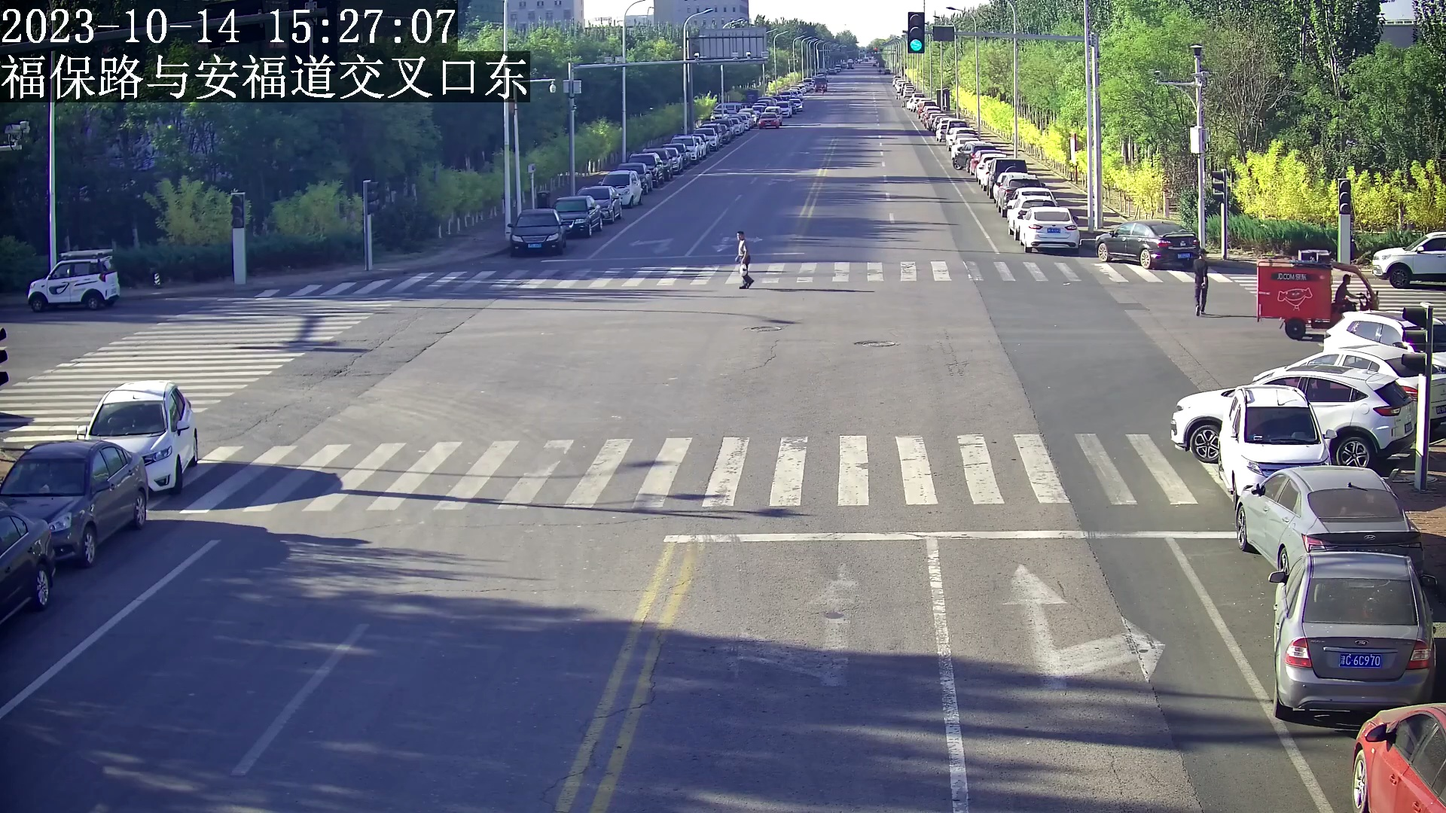person: (1192, 244, 1216, 318), (732, 228, 754, 290), (1335, 273, 1353, 313)
vehicle: (1268, 549, 1432, 723), (1167, 369, 1415, 467), (1236, 463, 1423, 570), (6, 437, 147, 561), (73, 378, 200, 492), (1225, 382, 1336, 500), (1252, 251, 1381, 335), (1351, 701, 1446, 813), (20, 244, 124, 315), (1095, 214, 1201, 272), (1368, 223, 1446, 285), (1018, 204, 1081, 253), (508, 202, 564, 251), (557, 191, 600, 240)
